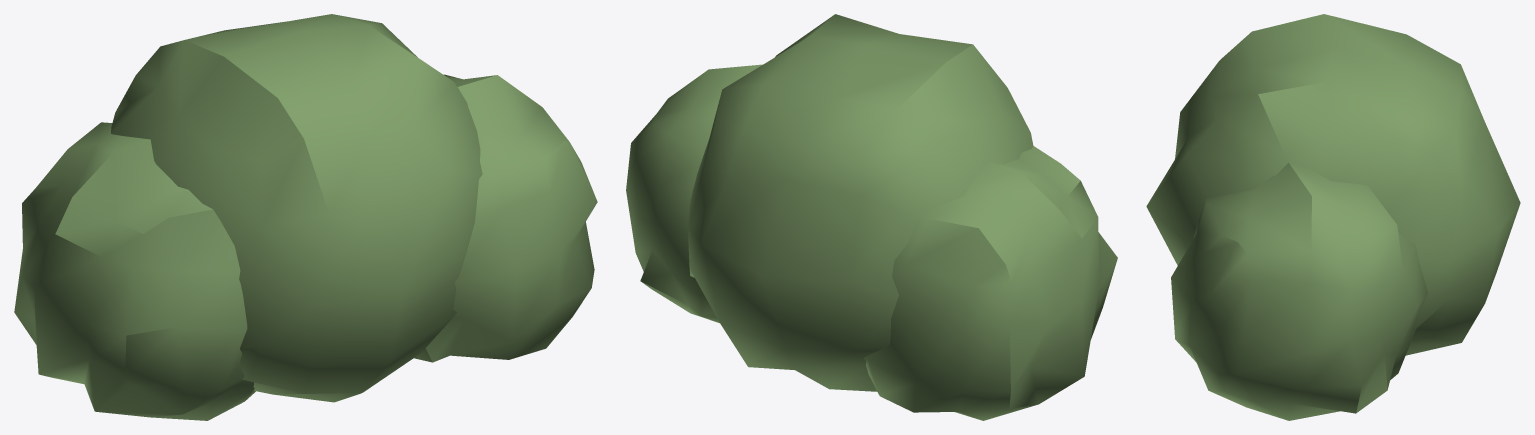
Rendered from arbusto.fbx.
3 views of the same model, side by side, from view 1: azimuth 30°, elevation 25°; view 2: azimuth 150°, elevation 25°; view 3: azimuth 270°, elevation 25° (orthographic). The views are drawn at different scales.
Parts seen in each view (by area): view 1: arbusto; view 2: arbusto; view 3: arbusto.
Part boxes in pixels (x1,y1,x2,y2): arbusto: (14, 14, 597, 420); arbusto: (626, 14, 1117, 420); arbusto: (1146, 14, 1520, 420).
Size of the model in its own units: 1.63 by 1.11 by 1.17.
